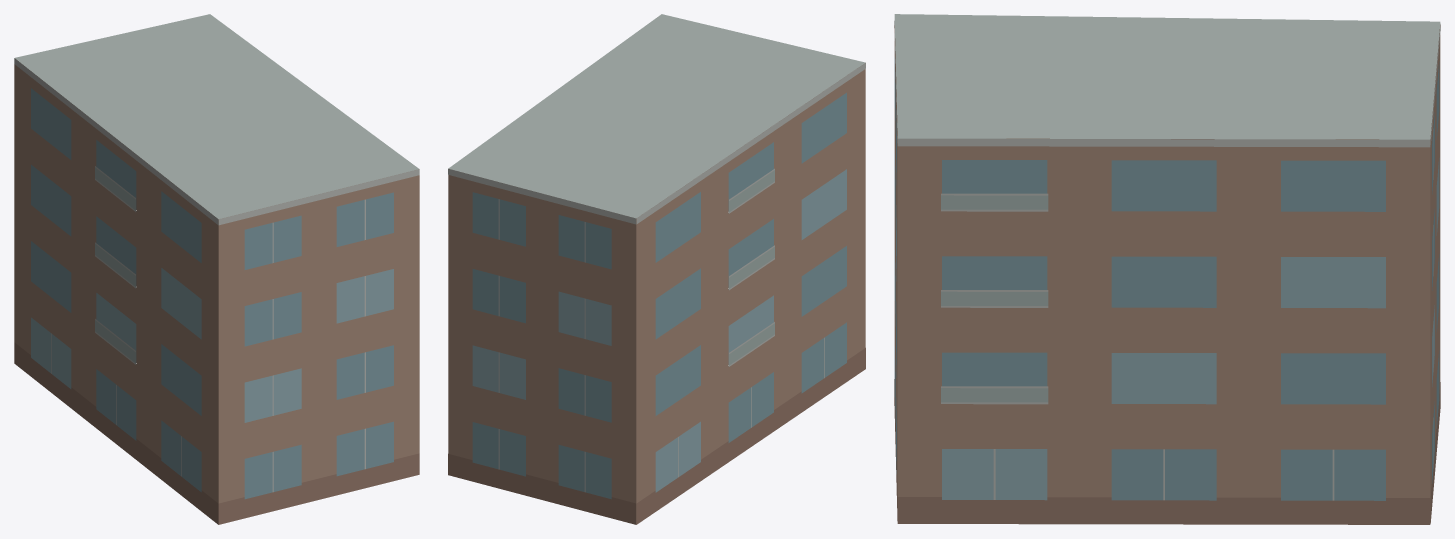
Rendered from survey-upis-32574990.glb.
3 views of the same model, side by side, from view 1: azimuth 30°, elevation 25°; view 2: azimuth 150°, elevation 25°; view 3: azimuth 270°, elevation 25° (orthographic). The views are drawn at different scales.
Visible parts, largest first — view 1: survey-upis-32574990.tmp; view 2: survey-upis-32574990.tmp; view 3: survey-upis-32574990.tmp.
Part boxes in pixels (<box>): survey-upis-32574990.tmp: <box>14,14,419,524</box>; survey-upis-32574990.tmp: <box>448,14,865,524</box>; survey-upis-32574990.tmp: <box>894,14,1440,524</box>.
Bounding box in the file's own units: 8.53 × 12.2 × 15.68.
